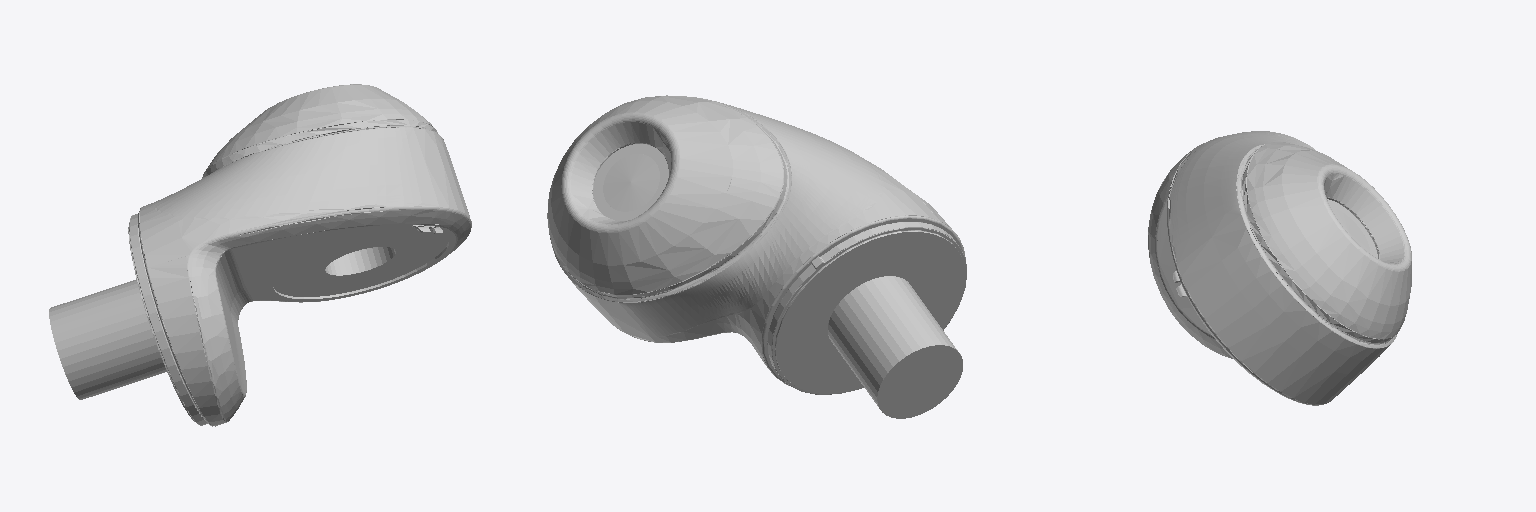
Rendered from IRB14000_rev00_Link3_L.obj.
3 views of the same model, side by side, from view 1: azimuth 30°, elevation 25°; view 2: azimuth 150°, elevation 25°; view 3: azimuth 270°, elevation 25° (orthographic).
Visible parts, largest first — view 1: Link3_L3.0-2, Link3_L3.0-1, Link3_L3.0; view 2: Link3_L3.0-2, Link3_L3.0-1, Link3_L3.0; view 3: Link3_L3.0-2, Link3_L3.0-1.
Part boxes in pixels (left/top/right/bottom): Link3_L3.0-2: left=138, top=84, right=471, bottom=426; Link3_L3.0-1: left=49, top=214, right=455, bottom=425; Link3_L3.0: left=325, top=247, right=395, bottom=275; Link3_L3.0-2: left=547, top=95, right=965, bottom=385; Link3_L3.0-1: left=593, top=144, right=966, bottom=406; Link3_L3.0: left=877, top=345, right=962, bottom=418; Link3_L3.0-2: left=1148, top=131, right=1411, bottom=405; Link3_L3.0-1: left=1157, top=199, right=1377, bottom=333.
Bounding box in the file's own units: 0.1854 × 0.1188 × 0.1082.